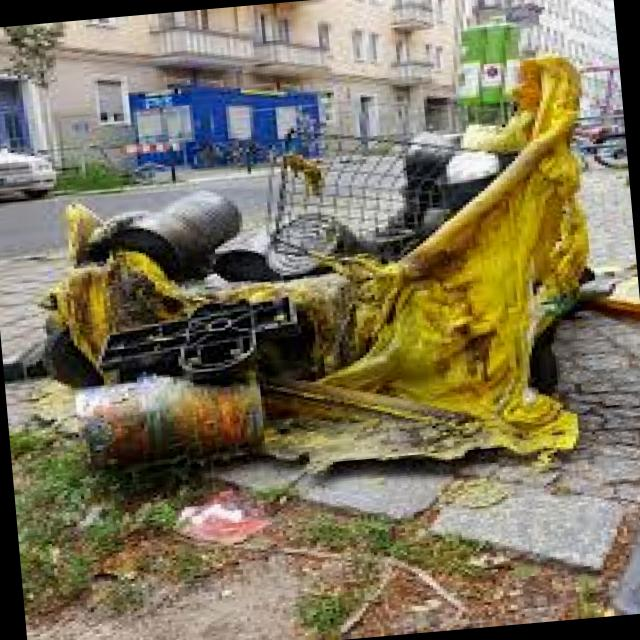garbage: (41, 49, 640, 487)
